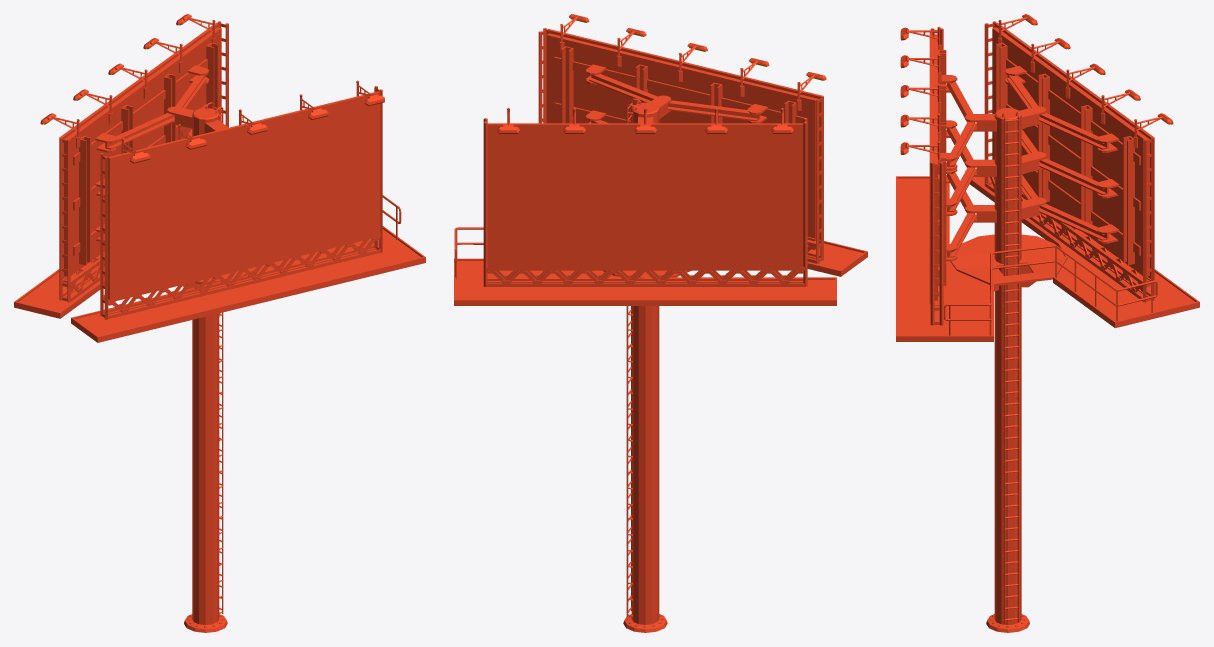
Rendered from SM_Billboard_B_City.fbx.
3 views of the same model, side by side, from view 1: azimuth 30°, elevation 25°; view 2: azimuth 150°, elevation 25°; view 3: azimuth 270°, elevation 25° (orthographic).
Parts seen in each view (by area): view 1: SM_Billboard_B_City; view 2: SM_Billboard_B_City; view 3: SM_Billboard_B_City.
Part boxes in pixels (box(x1,y1,x2,y2)): SM_Billboard_B_City: box(14, 14, 425, 632); SM_Billboard_B_City: box(454, 14, 867, 632); SM_Billboard_B_City: box(896, 14, 1199, 632).
Size of the model in its own units: 13.1 by 19.05 by 9.72.
